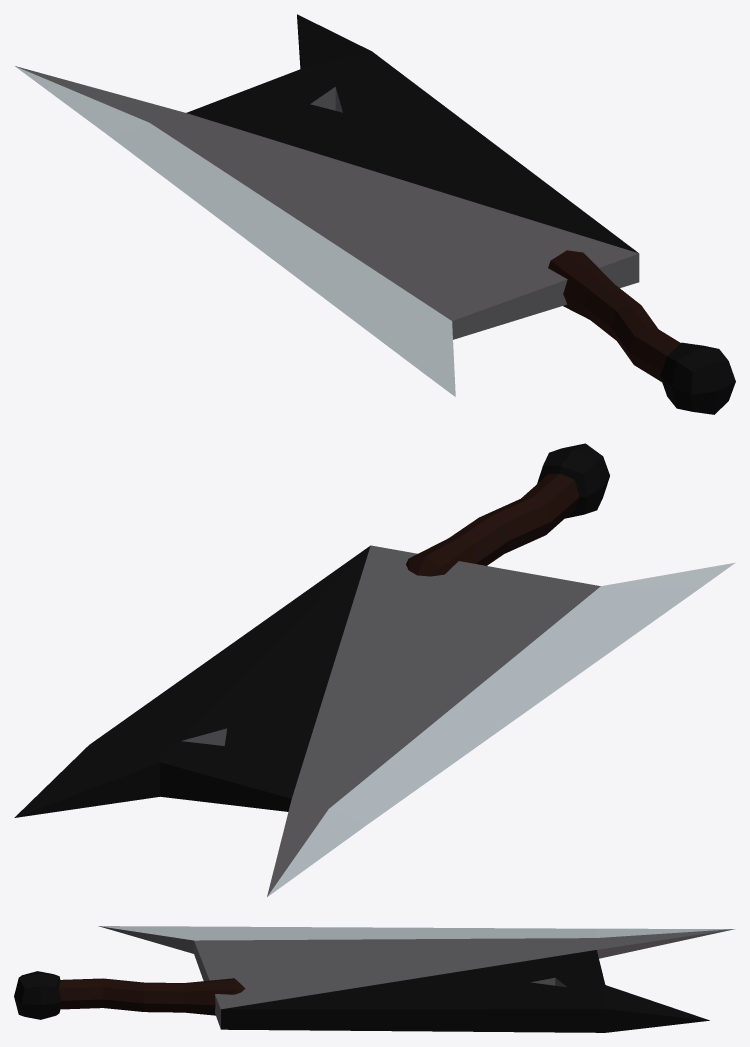
File: BroadSword.fbx
The picture shows the model from 3 angles, top to bottom: view 1: azimuth 30°, elevation 25°; view 2: azimuth 150°, elevation 25°; view 3: azimuth 270°, elevation 25°; orthographic projection. The views are drawn at different scales.
Parts seen in each view (by area): view 1: Sword, Handle, Knob; view 2: Sword, Handle, Knob; view 3: Sword, Handle, Knob.
Boxes of the visible parts, x1,y1,x2,y2 form: Sword: (15, 14, 639, 396); Handle: (548, 250, 680, 381); Knob: (660, 342, 735, 414); Sword: (14, 545, 735, 896); Handle: (406, 473, 579, 576); Knob: (537, 443, 609, 518); Sword: (98, 926, 734, 1032); Handle: (58, 978, 245, 1015); Knob: (14, 971, 60, 1019).
Size of the model in its own units: 26.8 by 5.73 by 86.17.
